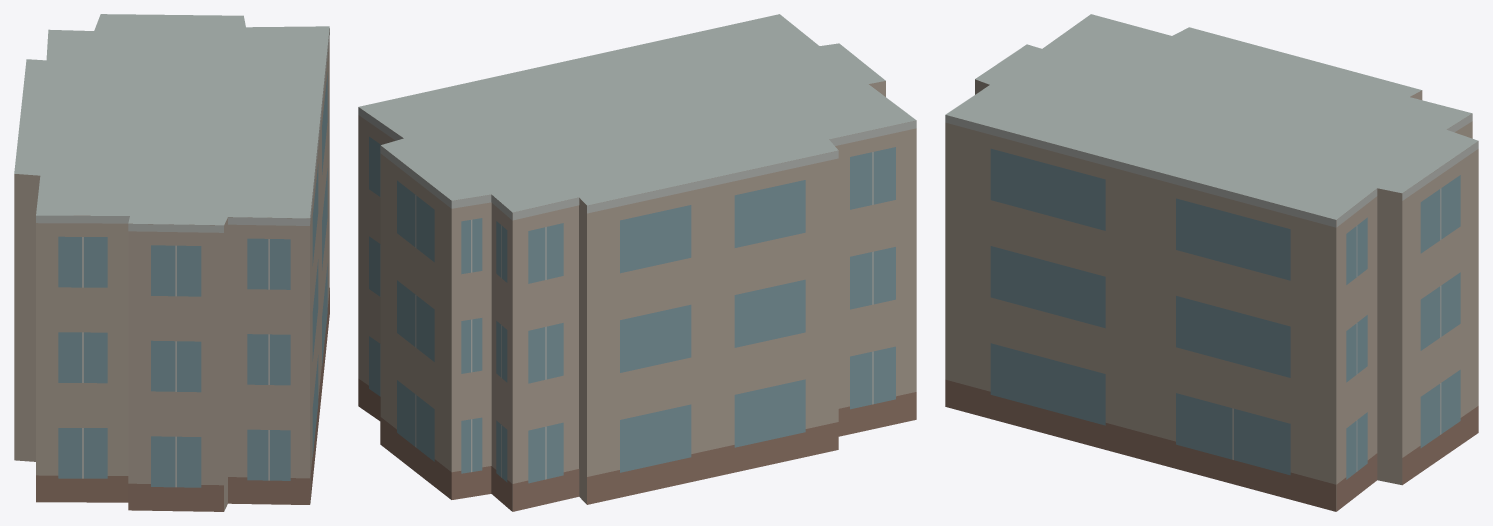
Rendered from survey-upis-32735121.glb.
3 views of the same model, side by side, from view 1: azimuth 30°, elevation 25°; view 2: azimuth 150°, elevation 25°; view 3: azimuth 270°, elevation 25° (orthographic). The views are drawn at different scales.
Parts seen in each view (by area): view 1: survey-upis-32735121.tmp; view 2: survey-upis-32735121.tmp; view 3: survey-upis-32735121.tmp.
Part boxes in pixels (<box>): survey-upis-32735121.tmp: <box>14,14,329,511</box>; survey-upis-32735121.tmp: <box>358,14,916,511</box>; survey-upis-32735121.tmp: <box>945,14,1478,511</box>.
Size of the model in its own units: 13.85 by 9.15 by 15.16.
